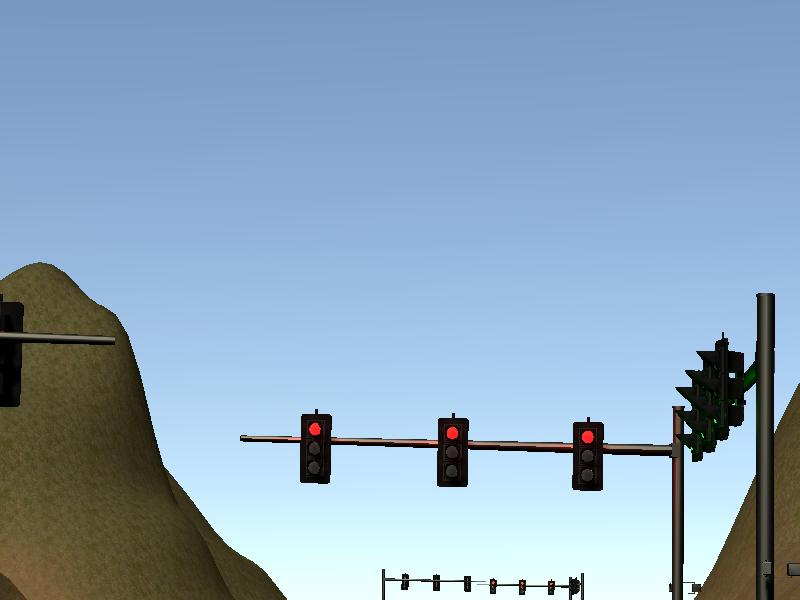Red: (299, 411, 332, 483), (573, 422, 604, 491), (438, 417, 468, 485)
